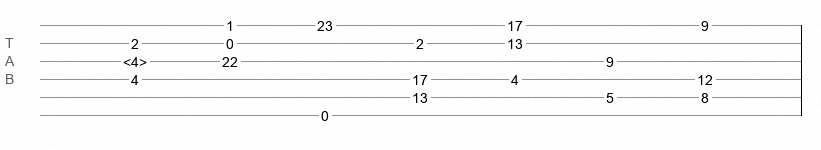0: (226, 36, 234, 46), (321, 108, 329, 118)
1: (226, 18, 234, 28)
12: (697, 72, 713, 82)
13: (412, 90, 428, 100), (507, 36, 523, 46)
17: (412, 72, 428, 82), (507, 18, 523, 28)
2: (131, 36, 139, 46), (416, 36, 424, 46)
22: (222, 54, 238, 64)
23: (317, 18, 333, 28)
4: (131, 72, 139, 82), (511, 72, 519, 82)
5: (606, 90, 614, 100)
8: (701, 90, 709, 100)
9: (606, 54, 614, 64), (701, 18, 709, 28)
harmonic: (123, 54, 147, 64)
